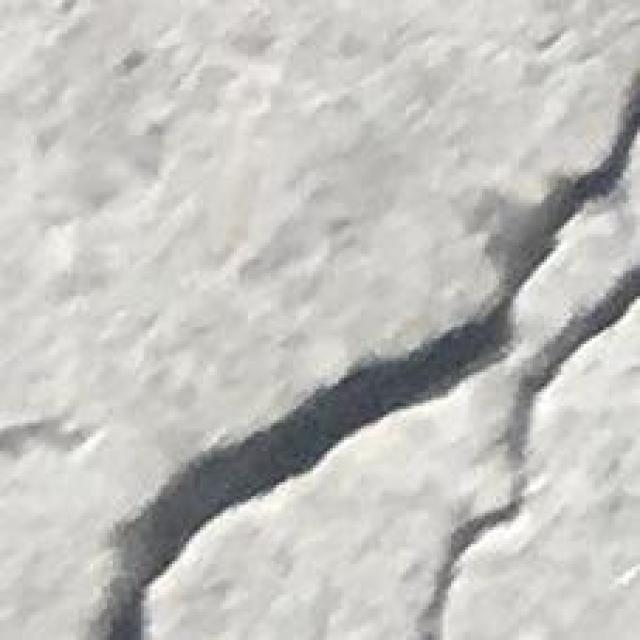Crack: (90, 73, 640, 640)
